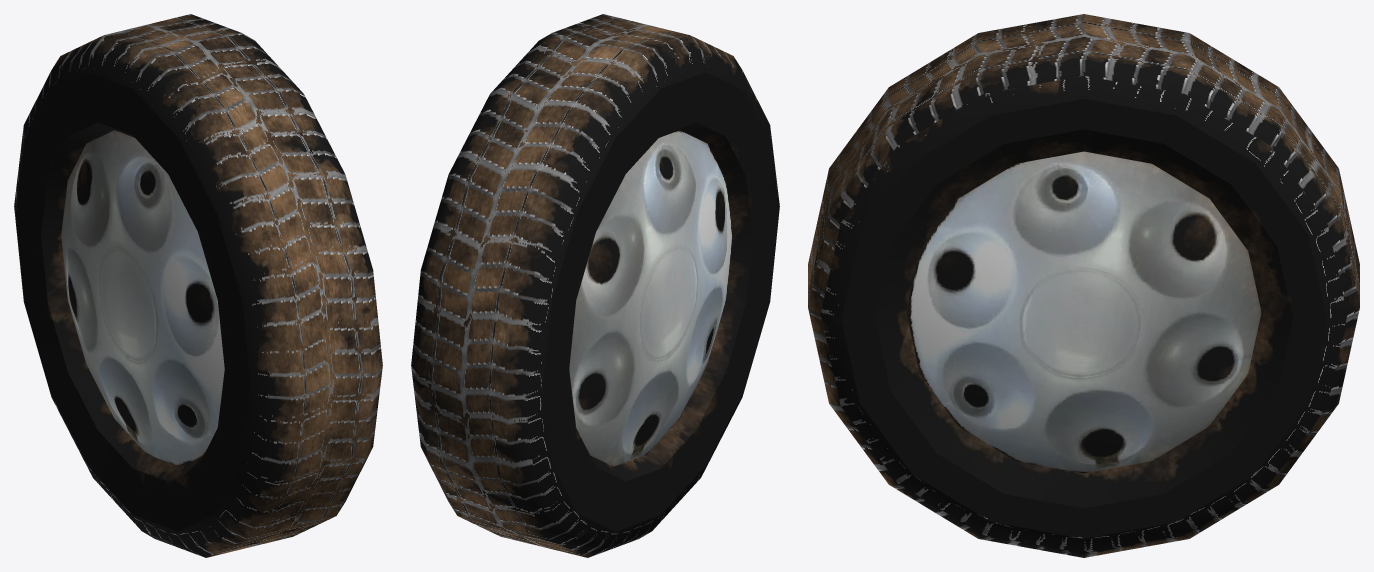
Rendered from ZAZ1105_wheel.obj.
3 renders of one model, left to right at view 1: azimuth 30°, elevation 25°; view 2: azimuth 150°, elevation 25°; view 3: azimuth 270°, elevation 25°, orthographic. The views are drawn at different scales.
Parts seen in each view (by area): view 1: tavria_wheel_Cylinder_Cylinder.002; view 2: tavria_wheel_Cylinder_Cylinder.002; view 3: tavria_wheel_Cylinder_Cylinder.002.
Part boxes in pixels (<box>): tavria_wheel_Cylinder_Cylinder.002: <box>14,14,382,557</box>; tavria_wheel_Cylinder_Cylinder.002: <box>411,14,779,557</box>; tavria_wheel_Cylinder_Cylinder.002: <box>808,14,1359,557</box>.
Size of the model in its own units: 0.6489 by 2 by 2.
1 material, 1 textured.
